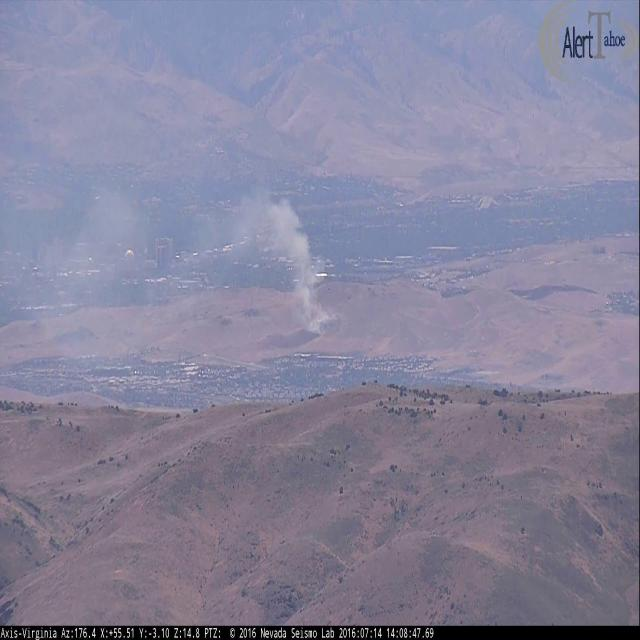smoke: (48, 182, 334, 338)
